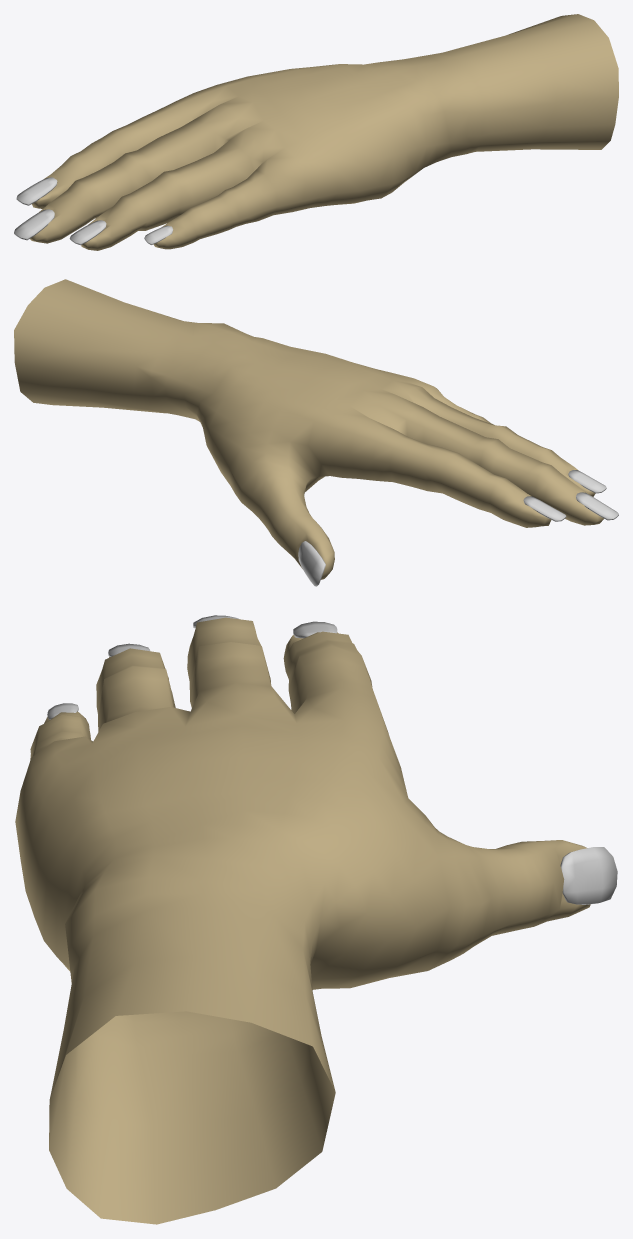
File: Pose 2 static.fbx
The picture shows the model from 3 angles, top to bottom: view 1: azimuth 30°, elevation 25°; view 2: azimuth 150°, elevation 25°; view 3: azimuth 270°, elevation 25°; orthographic projection. The views are drawn at different scales.
Parts seen in each view (by area): view 1: polySurface5; view 2: polySurface5; view 3: polySurface5.
Part boxes in pixels (left/top/right/bottom): polySurface5: left=14, top=14, right=618, bottom=250; polySurface5: left=14, top=279, right=618, bottom=586; polySurface5: left=15, top=615, right=617, bottom=1224.
Size of the model in its own units: 353 by 75.55 by 161.
